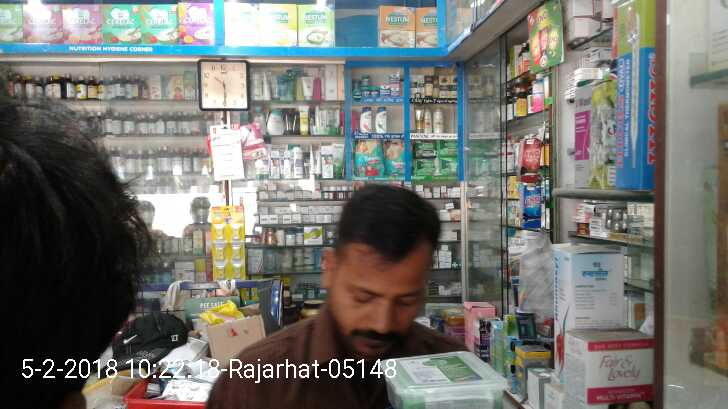vicks: (353, 69, 406, 96)
